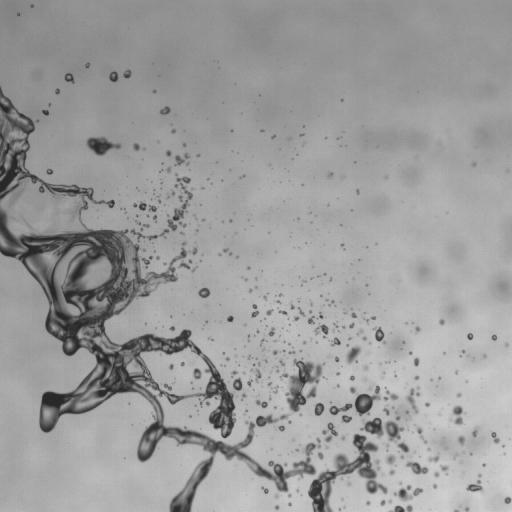droplet: (393, 481, 423, 501), (448, 405, 466, 425), (321, 422, 338, 442), (344, 345, 361, 364), (426, 452, 439, 463), (232, 377, 242, 391), (198, 287, 210, 298), (314, 402, 324, 415), (250, 303, 259, 317), (13, 99, 24, 110), (121, 141, 132, 152), (23, 160, 34, 171), (176, 165, 187, 176), (62, 176, 73, 187), (5, 220, 16, 231), (71, 222, 82, 233), (149, 223, 160, 234), (35, 225, 46, 236), (10, 226, 21, 237), (9, 256, 20, 267), (153, 262, 164, 273), (174, 266, 185, 277), (159, 280, 170, 291), (131, 295, 142, 306), (39, 300, 50, 311), (130, 327, 141, 338), (319, 336, 330, 347), (264, 339, 275, 350), (248, 343, 259, 354), (337, 345, 348, 356), (77, 346, 88, 357), (85, 353, 96, 364), (309, 354, 320, 365), (211, 355, 222, 366), (345, 362, 356, 373), (280, 379, 291, 390), (314, 381, 325, 392), (53, 383, 64, 394), (396, 387, 407, 398), (230, 390, 241, 401), (209, 396, 220, 407), (244, 396, 255, 407), (396, 397, 407, 408), (304, 398, 315, 409), (141, 400, 152, 411), (364, 410, 375, 421), (410, 413, 421, 424), (353, 414, 364, 425), (455, 424, 466, 435), (210, 429, 221, 440), (398, 430, 409, 441), (364, 431, 375, 442), (159, 435, 170, 446), (224, 435, 235, 446), (185, 441, 196, 452), (388, 443, 399, 454), (348, 448, 359, 459), (394, 458, 405, 469), (378, 461, 389, 472), (426, 461, 437, 472), (314, 462, 325, 473), (186, 463, 197, 474), (302, 473, 313, 484), (412, 473, 423, 484), (330, 477, 341, 488), (265, 478, 276, 489), (174, 480, 185, 491), (326, 496, 337, 507), (408, 496, 419, 507), (340, 413, 352, 423), (64, 73, 74, 83), (109, 71, 118, 82), (192, 368, 201, 379), (0, 197, 9, 208), (458, 435, 465, 447), (92, 130, 101, 139), (44, 174, 53, 183), (76, 179, 85, 188), (91, 222, 100, 231), (138, 238, 147, 247), (257, 304, 266, 313), (103, 318, 112, 327), (326, 330, 335, 339), (117, 335, 126, 344), (292, 340, 301, 349), (274, 341, 283, 350), (358, 341, 367, 350), (269, 355, 278, 364), (226, 361, 235, 370), (384, 364, 393, 373), (411, 365, 420, 374), (289, 366, 298, 375), (270, 374, 279, 383), (225, 383, 234, 392), (113, 391, 122, 400), (346, 394, 355, 403), (158, 395, 167, 404), (414, 396, 423, 405), (452, 397, 461, 406), (281, 402, 290, 411), (259, 407, 268, 416), (347, 407, 356, 416), (288, 410, 297, 419), (60, 412, 69, 421), (379, 414, 388, 423), (162, 418, 171, 427), (187, 422, 196, 431), (463, 431, 472, 440), (201, 450, 210, 459), (213, 450, 222, 459), (309, 456, 318, 465), (237, 458, 246, 467), (207, 466, 216, 475), (374, 474, 383, 483), (259, 476, 268, 485), (285, 476, 294, 485), (422, 483, 431, 492), (160, 106, 170, 114), (267, 327, 275, 337), (382, 404, 389, 415), (123, 69, 131, 78), (240, 391, 247, 401), (505, 441, 511, 452), (188, 505, 199, 511), (278, 505, 289, 511), (356, 328, 363, 336), (316, 452, 323, 460), (504, 496, 511, 504), (0, 235, 5, 246), (413, 357, 419, 366), (300, 279, 307, 286), (226, 315, 233, 322), (261, 486, 268, 493), (117, 74, 124, 81), (105, 135, 112, 142), (87, 148, 94, 155), (105, 148, 112, 155), (188, 150, 195, 157), (168, 155, 175, 162), (188, 155, 195, 162), (174, 187, 181, 194), (4, 192, 11, 199), (74, 193, 81, 200), (17, 195, 24, 202), (144, 198, 151, 205), (150, 199, 157, 206), (175, 201, 182, 208), (146, 217, 153, 224), (104, 223, 111, 230), (53, 228, 60, 235), (142, 228, 149, 235), (24, 229, 31, 236), (177, 234, 184, 241), (184, 244, 191, 251), (136, 250, 143, 257), (185, 252, 192, 259), (160, 265, 167, 272), (139, 271, 146, 278), (267, 294, 274, 301), (291, 308, 298, 315), (258, 309, 265, 316), (271, 309, 278, 316), (299, 315, 306, 322), (314, 318, 321, 325), (372, 320, 379, 327), (326, 322, 333, 329), (139, 328, 146, 335), (173, 329, 180, 336), (153, 330, 160, 337), (188, 334, 195, 341), (55, 339, 62, 346), (349, 340, 356, 347), (266, 352, 273, 359), (355, 353, 362, 360), (382, 363, 389, 370), (320, 367, 327, 374), (363, 370, 370, 377), (385, 370, 392, 377), (349, 380, 356, 387), (409, 380, 416, 387), (356, 387, 363, 394), (367, 389, 374, 396), (378, 389, 385, 396), (35, 396, 42, 403), (191, 396, 198, 403), (231, 396, 238, 403), (386, 398, 393, 405), (336, 401, 343, 408), (404, 402, 411, 409), (323, 403, 330, 410), (322, 407, 329, 414), (397, 409, 404, 416), (271, 411, 278, 418), (387, 414, 394, 421), (147, 417, 154, 424), (279, 418, 286, 425), (395, 419, 402, 426), (138, 425, 145, 432), (253, 425, 260, 432), (230, 426, 237, 433), (50, 427, 57, 434), (359, 429, 366, 436), (381, 432, 388, 439), (318, 433, 325, 440), (346, 435, 353, 442), (240, 446, 247, 453), (311, 447, 318, 454), (152, 448, 159, 455), (367, 449, 374, 456), (299, 453, 306, 460), (231, 454, 238, 461), (393, 456, 400, 463), (145, 457, 152, 464), (438, 457, 445, 464), (328, 464, 335, 471), (266, 465, 273, 472), (351, 469, 358, 476), (426, 469, 433, 476), (311, 472, 318, 479), (360, 476, 367, 483), (431, 476, 438, 483), (195, 484, 202, 491), (375, 488, 382, 495), (405, 488, 412, 495), (169, 490, 176, 497), (279, 490, 286, 497), (366, 492, 373, 499), (382, 493, 389, 500), (400, 501, 407, 508), (133, 143, 139, 151), (414, 326, 420, 334), (161, 506, 170, 511), (266, 309, 273, 315), (467, 333, 473, 340), (362, 364, 369, 370), (327, 172, 333, 178), (491, 334, 497, 340), (278, 425, 284, 431), (166, 166, 171, 173), (46, 169, 53, 174), (340, 243, 345, 250), (439, 318, 444, 325), (453, 453, 458, 460), (85, 62, 90, 68), (55, 88, 60, 94), (166, 150, 171, 156), (171, 189, 176, 195), (293, 316, 299, 321), (349, 322, 354, 328), (169, 326, 175, 331), (334, 356, 339, 362), (168, 363, 173, 369), (349, 375, 355, 380), (424, 402, 430, 407), (243, 409, 248, 415), (432, 483, 437, 489), (166, 192, 170, 199), (208, 336, 213, 341), (362, 336, 367, 341), (504, 342, 509, 347), (247, 354, 252, 359), (414, 375, 419, 380), (456, 392, 461, 397), (346, 481, 351, 486), (129, 73, 134, 78), (109, 80, 114, 85), (113, 80, 118, 85), (50, 87, 55, 92), (2, 90, 7, 95), (11, 100, 16, 105), (159, 104, 164, 109), (43, 105, 48, 110), (169, 107, 174, 112), (18, 108, 23, 113), (24, 111, 29, 116), (30, 116, 35, 121), (167, 125, 172, 130), (28, 132, 33, 137), (138, 143, 143, 148), (128, 144, 133, 149), (166, 145, 171, 150), (25, 150, 30, 155), (161, 151, 166, 156), (170, 152, 175, 157), (179, 154, 184, 159), (162, 163, 167, 168), (29, 169, 34, 174), (185, 172, 190, 177), (177, 173, 182, 178), (25, 176, 30, 181), (171, 178, 176, 183), (35, 180, 40, 185), (154, 184, 159, 189), (171, 186, 176, 191), (147, 189, 152, 194), (190, 189, 195, 194), (91, 193, 96, 198), (83, 195, 88, 200), (105, 196, 110, 201), (185, 205, 190, 210), (134, 206, 139, 211), (80, 208, 85, 213), (149, 210, 154, 215), (169, 211, 174, 216), (73, 216, 78, 221), (178, 216, 183, 221), (223, 217, 228, 222), (172, 219, 177, 224), (163, 223, 168, 228), (176, 224, 181, 229), (120, 225, 125, 230), (134, 227, 139, 232), (154, 230, 159, 235), (156, 235, 161, 240), (175, 250, 180, 255), (232, 250, 237, 255), (195, 251, 200, 256), (151, 252, 156, 257), (230, 253, 235, 258), (6, 255, 11, 260), (158, 257, 163, 262), (166, 257, 171, 262), (182, 257, 187, 262), (139, 260, 144, 265), (197, 262, 202, 267), (181, 266, 186, 271), (155, 269, 160, 274), (28, 274, 33, 279), (324, 274, 329, 279), (167, 280, 172, 285), (253, 280, 258, 285), (204, 283, 209, 288), (197, 284, 202, 289), (364, 286, 369, 291), (38, 288, 43, 293), (148, 292, 153, 297), (322, 293, 327, 298), (142, 295, 147, 300), (203, 296, 208, 301), (278, 296, 283, 301), (319, 297, 324, 302), (292, 301, 297, 306), (265, 305, 270, 310), (279, 305, 284, 310), (347, 309, 352, 314), (119, 310, 124, 315), (355, 311, 360, 316), (224, 312, 229, 317), (305, 313, 310, 318), (365, 313, 370, 318), (255, 314, 260, 319), (265, 314, 270, 319), (41, 315, 46, 320), (350, 317, 355, 322), (434, 318, 439, 323), (443, 318, 448, 323), (319, 319, 324, 324), (40, 320, 45, 325), (337, 321, 342, 326), (413, 321, 418, 326), (344, 322, 349, 327), (436, 323, 441, 328), (183, 324, 188, 329), (410, 324, 415, 329), (352, 325, 357, 330), (265, 327, 270, 332), (327, 328, 332, 333), (273, 329, 278, 334), (319, 330, 324, 335), (417, 330, 422, 335), (358, 332, 363, 337), (257, 333, 262, 338), (272, 333, 277, 338), (264, 334, 269, 339), (370, 335, 375, 340), (278, 336, 283, 341), (298, 336, 303, 341), (304, 336, 309, 341), (110, 337, 115, 342), (196, 343, 201, 348), (300, 344, 305, 349), (293, 346, 298, 351), (346, 346, 351, 351), (205, 352, 210, 357), (275, 352, 280, 357), (289, 353, 294, 358), (64, 354, 69, 359), (229, 356, 234, 361), (250, 358, 255, 363), (409, 359, 414, 364), (260, 360, 265, 365), (350, 360, 355, 365), (417, 360, 422, 365), (234, 366, 239, 371), (278, 369, 283, 374), (81, 372, 86, 377), (260, 372, 265, 377), (232, 374, 237, 379), (250, 374, 255, 379), (317, 375, 322, 380), (432, 375, 437, 380), (414, 379, 419, 384), (375, 380, 380, 385), (241, 381, 246, 386), (270, 382, 275, 387), (345, 388, 350, 393), (389, 388, 394, 393), (314, 390, 319, 395), (270, 392, 275, 397), (411, 394, 416, 399), (371, 399, 376, 404), (175, 400, 180, 405), (266, 400, 271, 405), (95, 405, 100, 410), (386, 405, 391, 410), (461, 406, 466, 411), (408, 407, 413, 412), (388, 408, 393, 413), (85, 410, 90, 415), (338, 410, 343, 415), (79, 412, 84, 417), (459, 412, 464, 417), (34, 413, 39, 418), (314, 414, 319, 419), (251, 418, 256, 423), (208, 422, 213, 427), (264, 422, 269, 427), (359, 422, 364, 427), (417, 422, 422, 427), (455, 423, 460, 428), (322, 424, 327, 429), (35, 425, 40, 430), (179, 425, 184, 430), (397, 430, 402, 435), (413, 431, 418, 436), (495, 433, 500, 438), (251, 436, 256, 441), (488, 436, 493, 441), (453, 437, 458, 442), (417, 438, 422, 443), (312, 439, 317, 444), (320, 439, 325, 444), (463, 439, 468, 444), (498, 439, 503, 444), (327, 440, 332, 445), (404, 440, 409, 445), (454, 440, 459, 445), (155, 441, 160, 446), (183, 442, 188, 447), (301, 442, 306, 447), (422, 443, 427, 448), (502, 446, 507, 451), (318, 447, 323, 452), (399, 449, 404, 454), (132, 452, 137, 457), (430, 452, 435, 457), (411, 457, 416, 462), (273, 458, 278, 463), (278, 460, 283, 465), (419, 462, 424, 467), (389, 464, 394, 469), (406, 466, 411, 471), (446, 468, 451, 473), (439, 470, 444, 475), (418, 472, 423, 477), (342, 473, 347, 478), (391, 473, 396, 478), (184, 474, 189, 479), (335, 474, 340, 479), (479, 476, 484, 481), (471, 479, 476, 484), (381, 481, 386, 486), (479, 481, 484, 486), (401, 483, 406, 488), (410, 485, 415, 490), (394, 487, 399, 492), (434, 487, 439, 492), (473, 490, 478, 495), (286, 497, 291, 502), (308, 497, 313, 502), (366, 504, 371, 509), (389, 505, 394, 510), (222, 248, 228, 252), (343, 308, 347, 314), (341, 434, 345, 440), (356, 188, 359, 195), (28, 0, 35, 3), (0, 252, 3, 259), (271, 134, 276, 138), (182, 142, 186, 147), (179, 231, 184, 235), (248, 288, 252, 293), (341, 324, 345, 329), (225, 357, 230, 361), (454, 369, 458, 374), (334, 384, 339, 388), (400, 454, 404, 459), (366, 500, 370, 505), (275, 505, 279, 510), (464, 507, 469, 511), (152, 89, 156, 93), (171, 129, 175, 133), (196, 153, 200, 157), (472, 162, 476, 166), (156, 256, 160, 260), (348, 336, 352, 340), (302, 340, 306, 344), (461, 349, 465, 353), (327, 354, 331, 358), (180, 362, 184, 366), (325, 445, 329, 449), (444, 446, 448, 450), (482, 463, 486, 467), (380, 471, 384, 475), (295, 488, 299, 492), (288, 502, 292, 506), (299, 133, 304, 136), (294, 448, 299, 451), (508, 341, 511, 346), (508, 501, 511, 506), (272, 508, 277, 511), (276, 508, 281, 511), (340, 508, 345, 511), (411, 508, 416, 511), (459, 508, 464, 511), (30, 4, 34, 7), (48, 102, 51, 106), (260, 129, 264, 132), (142, 147, 146, 150), (297, 217, 300, 221), (201, 218, 205, 221), (228, 252, 232, 255), (246, 266, 250, 269), (329, 277, 332, 281), (254, 285, 257, 289), (243, 323, 247, 326), (256, 329, 259, 333), (408, 351, 412, 354), (483, 354, 486, 358), (379, 362, 382, 366), (336, 372, 340, 375), (266, 376, 270, 379), (429, 378, 433, 381), (438, 411, 441, 415), (501, 444, 505, 447), (427, 447, 430, 451), (342, 505, 345, 509), (338, 507, 341, 511), (258, 361, 260, 366), (340, 98, 343, 101), (230, 129, 233, 132), (146, 214, 149, 217), (229, 219, 232, 222), (218, 253, 221, 256), (254, 277, 257, 280), (365, 283, 368, 286), (309, 310, 312, 313), (368, 341, 371, 344), (402, 340, 405, 343), (299, 349, 302, 352), (222, 352, 225, 355), (443, 352, 446, 355), (234, 354, 237, 357), (252, 363, 255, 366), (242, 371, 245, 374), (438, 376, 441, 379), (465, 380, 468, 383), (299, 413, 302, 416), (188, 415, 191, 418), (292, 438, 295, 441), (462, 450, 465, 453), (469, 452, 472, 455), (27, 4, 30, 7), (33, 4, 36, 7), (30, 7, 33, 10), (16, 9, 19, 12), (13, 12, 16, 15), (16, 15, 19, 18), (87, 59, 90, 62), (83, 60, 86, 63), (82, 64, 85, 67), (88, 64, 91, 67), (85, 67, 88, 70), (110, 68, 113, 71), (65, 70, 68, 73), (61, 76, 64, 79), (72, 76, 75, 79), (124, 77, 127, 80), (68, 80, 71, 83), (0, 86, 3, 89), (58, 86, 61, 89), (150, 87, 153, 90), (59, 89, 62, 92), (155, 90, 158, 93), (151, 92, 154, 95), (56, 93, 59, 96), (340, 95, 343, 98), (343, 98, 346, 101), (337, 99, 340, 102), (50, 103, 53, 106), (48, 110, 51, 113), (40, 112, 43, 115), (165, 113, 168, 116), (299, 123, 302, 126), (228, 126, 231, 129), (260, 126, 263, 129), (232, 127, 235, 130), (175, 129, 178, 132), (300, 130, 303, 133), (230, 131, 233, 134), (260, 131, 263, 134), (172, 132, 175, 135), (270, 132, 273, 135), (275, 133, 278, 136), (337, 134, 340, 137), (300, 135, 303, 138), (273, 136, 276, 139), (338, 137, 341, 140), (185, 142, 188, 145), (179, 143, 182, 146), (194, 151, 197, 154), (199, 154, 202, 157), (196, 156, 199, 159), (24, 158, 27, 161), (184, 158, 187, 161), (157, 161, 160, 164), (180, 162, 183, 165), (48, 165, 51, 168), (157, 167, 160, 170), (328, 169, 331, 172), (52, 170, 55, 173), (155, 170, 158, 173), (160, 170, 163, 173), (239, 173, 242, 176), (332, 173, 335, 176), (205, 174, 208, 177), (241, 176, 244, 179), (158, 179, 161, 182), (207, 179, 210, 182), (300, 180, 303, 183), (159, 183, 162, 186), (201, 183, 204, 186), (303, 183, 306, 186), (137, 186, 140, 189), (134, 188, 137, 191), (201, 188, 204, 191), (358, 189, 361, 192), (168, 190, 171, 193), (353, 190, 356, 193), (37, 191, 40, 194), (155, 192, 158, 195), (168, 193, 171, 196), (191, 195, 194, 198), (155, 196, 158, 199), (158, 196, 161, 199), (113, 199, 116, 202), (187, 199, 190, 202), (130, 201, 133, 204), (160, 201, 163, 204), (136, 202, 139, 205), (96, 203, 99, 206), (113, 203, 116, 206), (125, 207, 128, 210), (307, 208, 310, 211), (121, 209, 124, 212), (139, 209, 142, 212), (311, 211, 314, 214), (124, 213, 127, 216), (156, 214, 159, 217), (201, 215, 204, 218), (133, 216, 136, 219), (227, 216, 230, 219), (155, 217, 158, 220), (198, 217, 201, 220), (231, 217, 234, 220), (294, 218, 297, 221), (81, 220, 84, 223), (202, 220, 205, 223), (339, 220, 342, 223), (140, 221, 143, 224), (230, 221, 233, 224), (185, 224, 188, 227), (195, 225, 198, 228), (142, 226, 145, 229), (192, 229, 195, 232), (195, 231, 198, 234), (151, 232, 154, 235), (163, 232, 166, 235), (179, 233, 182, 236), (139, 236, 142, 239), (144, 237, 147, 240), (180, 239, 183, 242), (340, 240, 343, 243), (193, 243, 196, 246), (363, 243, 366, 246), (342, 244, 345, 247), (223, 245, 226, 248), (220, 250, 223, 253), (226, 250, 229, 253), (217, 255, 220, 258), (356, 255, 359, 258), (145, 256, 148, 259), (354, 258, 357, 261), (147, 263, 150, 266), (247, 263, 250, 266), (194, 268, 197, 271), (248, 268, 251, 271), (322, 269, 325, 272), (309, 273, 312, 276), (243, 274, 246, 277), (313, 274, 316, 277), (321, 274, 324, 277), (256, 276, 259, 279), (299, 276, 302, 279), (317, 276, 320, 279), (306, 277, 309, 280), (331, 277, 334, 280), (241, 278, 244, 281), (311, 278, 314, 281), (299, 280, 302, 283), (364, 280, 367, 283), (302, 282, 305, 285), (367, 284, 370, 287), (246, 287, 249, 290), (251, 287, 254, 290), (208, 288, 211, 291), (280, 290, 283, 293), (263, 292, 266, 295), (275, 292, 278, 295), (364, 292, 367, 295), (316, 293, 319, 296), (197, 295, 200, 298), (260, 296, 263, 299), (276, 296, 279, 299), (327, 300, 330, 303), (276, 302, 279, 305), (330, 303, 333, 306), (308, 306, 311, 309), (284, 308, 287, 311), (301, 308, 304, 311), (362, 308, 365, 311), (279, 312, 282, 315), (282, 313, 285, 316), (316, 313, 319, 316), (371, 313, 374, 316), (166, 314, 169, 317), (171, 314, 174, 317), (252, 316, 255, 319), (375, 316, 378, 319), (204, 317, 207, 320), (232, 317, 235, 320), (369, 318, 372, 321), (404, 318, 407, 321), (261, 319, 264, 322), (332, 319, 335, 322), (362, 319, 365, 322), (201, 320, 204, 323), (207, 320, 210, 323), (407, 320, 410, 323), (228, 321, 231, 324), (348, 321, 351, 324), (204, 322, 207, 325), (169, 323, 172, 326), (418, 324, 421, 327), (287, 325, 290, 328), (283, 326, 286, 329), (337, 326, 340, 329), (380, 327, 383, 330), (258, 328, 261, 331), (296, 330, 299, 333), (372, 330, 375, 333), (471, 331, 474, 334), (492, 331, 495, 334), (254, 332, 257, 335), (249, 333, 252, 336), (244, 334, 247, 337), (210, 335, 213, 338), (488, 335, 491, 338), (496, 335, 499, 338), (248, 336, 251, 339), (465, 337, 468, 340), (471, 337, 474, 340), (338, 338, 341, 341), (207, 339, 210, 342), (311, 339, 314, 342), (404, 339, 407, 342), (490, 339, 493, 342), (257, 340, 260, 343), (262, 340, 265, 343), (399, 340, 402, 343), (314, 343, 317, 346), (401, 343, 404, 346), (459, 347, 462, 350), (221, 348, 224, 351), (289, 348, 292, 351), (407, 348, 410, 351), (442, 348, 445, 351), (464, 348, 467, 351), (285, 349, 288, 352), (405, 351, 408, 354), (439, 351, 442, 354), (445, 351, 448, 354), (459, 351, 462, 354), (250, 353, 253, 356), (223, 354, 226, 357), (244, 355, 247, 358), (262, 356, 265, 359), (457, 356, 460, 359), (394, 357, 397, 360), (266, 358, 269, 361), (385, 358, 388, 361), (390, 359, 393, 362), (334, 361, 337, 364), (381, 361, 384, 364), (385, 362, 388, 365), (254, 363, 257, 366), (367, 363, 370, 366), (414, 365, 417, 368), (230, 368, 233, 371), (272, 368, 275, 371), (336, 368, 339, 371), (452, 368, 455, 371), (457, 370, 460, 373), (395, 371, 398, 374), (332, 372, 335, 375), (351, 372, 354, 375), (391, 372, 394, 375), (416, 372, 419, 375), (383, 373, 386, 376), (412, 373, 415, 376), (452, 373, 455, 376), (337, 374, 340, 377), (347, 374, 350, 377), (396, 374, 399, 377), (391, 375, 394, 378), (440, 375, 443, 378), (418, 376, 421, 379), (426, 378, 429, 381), (266, 379, 269, 382), (438, 379, 441, 382), (250, 381, 253, 384), (338, 382, 341, 385), (333, 383, 336, 386), (335, 386, 338, 389), (386, 386, 389, 389), (277, 387, 280, 390), (455, 390, 458, 393), (424, 399, 427, 402), (320, 400, 323, 403), (253, 402, 256, 405), (331, 402, 334, 405), (423, 405, 426, 408), (427, 405, 430, 408), (188, 411, 191, 414), (191, 415, 194, 418), (349, 419, 352, 422), (342, 421, 345, 424), (276, 428, 279, 431), (470, 428, 473, 431), (492, 428, 495, 431), (282, 429, 285, 432), (475, 432, 478, 435), (295, 445, 298, 448), (292, 449, 295, 452), (471, 450, 474, 453), (466, 452, 469, 455), (469, 455, 472, 458), (455, 456, 458, 459), (480, 460, 483, 463), (479, 464, 482, 467), (484, 464, 487, 467), (476, 476, 479, 479), (436, 484, 439, 487), (418, 485, 421, 488), (430, 486, 433, 489), (260, 489, 263, 492), (467, 489, 470, 492), (343, 497, 346, 500), (501, 498, 504, 501), (384, 499, 387, 502), (363, 500, 366, 503), (291, 502, 294, 505), (278, 505, 281, 508), (287, 505, 290, 508), (455, 506, 458, 509), (310, 337, 312, 341), (341, 497, 343, 501), (17, 12, 19, 15), (302, 125, 305, 127), (325, 136, 327, 139), (229, 168, 231, 171), (207, 177, 209, 180), (201, 187, 204, 189), (327, 203, 329, 206), (195, 229, 198, 231), (375, 242, 377, 245), (236, 256, 239, 258), (323, 273, 326, 275), (310, 277, 313, 279), (368, 292, 370, 295), (320, 294, 322, 297), (363, 312, 366, 314), (170, 315, 172, 318), (144, 322, 146, 325), (297, 334, 300, 336), (283, 340, 285, 343), (315, 341, 318, 343), (288, 342, 290, 345), (346, 344, 349, 346), (255, 357, 257, 360), (190, 381, 192, 384), (392, 406, 394, 409), (503, 452, 505, 455), (509, 435, 511, 438), (509, 439, 511, 442), (509, 495, 511, 498), (467, 509, 470, 511), (354, 161, 356, 163), (161, 162, 163, 164), (221, 179, 223, 181), (210, 182, 212, 184), (301, 184, 303, 186), (160, 187, 162, 189), (153, 189, 155, 191), (150, 198, 152, 200), (350, 209, 352, 211), (221, 220, 223, 222), (310, 221, 312, 223), (340, 224, 342, 226), (366, 246, 368, 248), (153, 250, 155, 252), (201, 253, 203, 255), (288, 323, 290, 325), (405, 322, 407, 324), (281, 327, 283, 329), (286, 329, 288, 331), (459, 355, 461, 357), (192, 387, 194, 389), (128, 402, 130, 404), (194, 404, 196, 406), (433, 428, 435, 430), (270, 448, 272, 450), (296, 154, 298, 155), (216, 161, 217, 163), (268, 232, 270, 233), (358, 259, 360, 260), (298, 276, 300, 277), (266, 325, 267, 327), (254, 335, 255, 337), (244, 345, 246, 346), (292, 346, 293, 348), (394, 360, 395, 362), (238, 364, 239, 366), (252, 389, 254, 390), (300, 494, 302, 495), (155, 327, 156, 328), (162, 326, 163, 327), (370, 362, 371, 363)
ligament: (313, 322, 341, 346), (86, 136, 121, 155), (133, 201, 158, 223), (405, 385, 420, 414), (405, 461, 428, 474), (413, 423, 427, 444), (307, 311, 326, 325), (372, 326, 386, 345), (385, 454, 396, 475), (387, 504, 412, 511), (277, 306, 289, 319), (260, 334, 267, 351), (255, 399, 268, 408), (491, 431, 499, 444), (380, 499, 392, 506), (153, 193, 161, 203), (297, 306, 305, 316), (272, 349, 285, 355), (350, 308, 357, 318), (472, 426, 478, 437), (230, 370, 238, 377), (273, 299, 283, 304), (119, 207, 127, 213), (263, 292, 268, 301), (273, 405, 283, 409), (275, 293, 284, 297), (27, 222, 32, 229), (241, 276, 248, 281), (381, 371, 385, 379), (239, 174, 245, 179), (309, 299, 313, 306), (288, 350, 295, 354), (262, 358, 267, 363), (193, 214, 197, 220), (247, 334, 250, 342), (394, 371, 397, 379), (272, 339, 279, 342), (158, 169, 163, 173), (203, 320, 207, 325), (384, 360, 390, 363), (220, 364, 226, 367), (336, 136, 341, 139), (196, 409, 198, 415), (453, 509, 459, 511), (136, 214, 141, 216), (317, 275, 321, 277), (171, 381, 175, 383), (199, 260, 202, 262), (263, 317, 266, 319), (329, 401, 332, 403), (160, 182, 162, 184), (278, 335, 280, 337)
